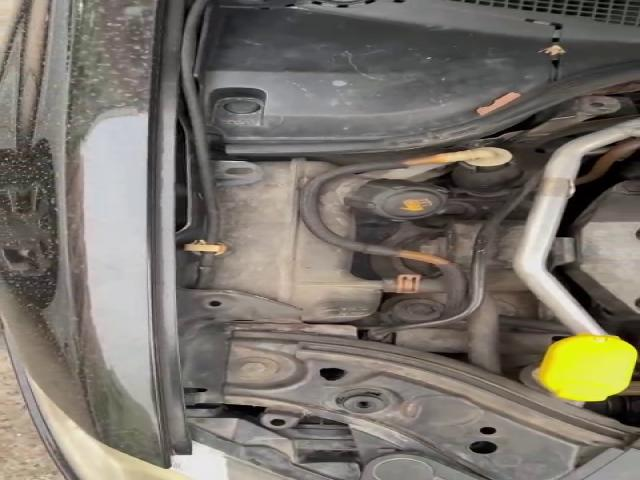antifreeze_tank: (212, 158, 380, 322), (318, 174, 448, 238)
